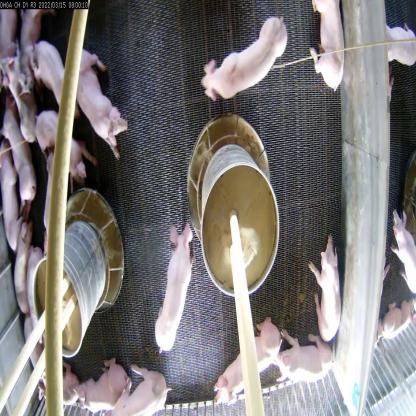Pig: (198, 17, 294, 114), (217, 308, 283, 415), (72, 44, 127, 159), (156, 229, 199, 352), (307, 2, 354, 101), (270, 328, 336, 398), (0, 102, 40, 208), (33, 99, 84, 181), (314, 228, 343, 343), (109, 363, 170, 415), (0, 147, 27, 255), (28, 47, 72, 112), (78, 359, 128, 415), (7, 222, 37, 314), (43, 148, 72, 239)
